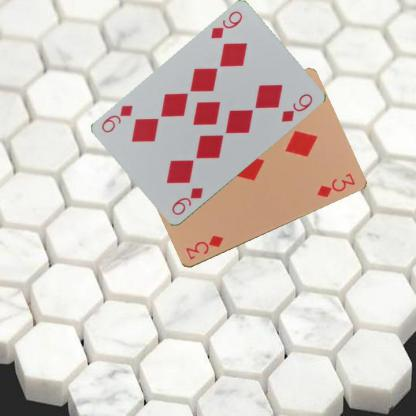3d: (182, 232, 224, 261)
9d: (208, 8, 244, 41), (168, 185, 204, 217)
